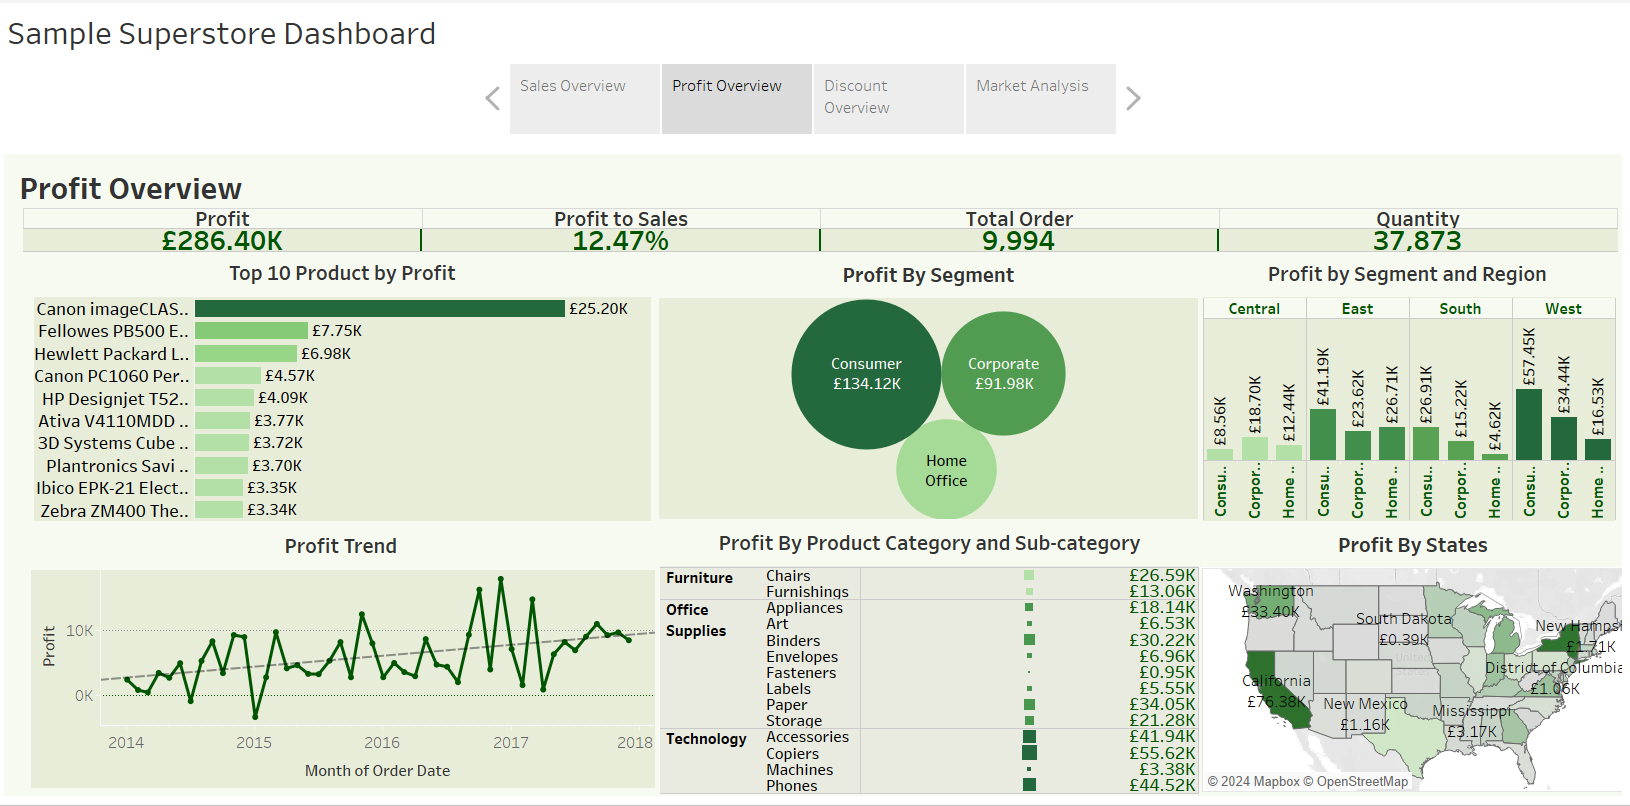

What the dashboard file says about the page in this screenshot:
{"tool":"tableau","page":{"name":"Profit Overview","canvas":[1000,1000],"units":"permille","ordinal":2},"visuals":[{"type":"title","box":[4.2,8.8,991.7,54.2]},{"type":"worksheet","title":"Profit KPI","mark":"Automatic","box":[11.5,83.7,986.1,69.9]},{"type":"worksheet","title":"Top 10 Product by Profit","mark":"Automatic","rows":["Product Name"],"cols":["Profit"],"box":[18.8,156.1,381.1,415.7]},{"type":"worksheet","title":"Profit by Segment and Region ","mark":"Automatic","rows":["Profit"],"cols":["Region","Segment"],"box":[741.1,157.3,255.3,414.5]},{"type":"worksheet","title":"Profit By Segment","mark":"Circle","box":[404.7,158.6,333.3,410.7]},{"type":"worksheet","title":"Porfit by Product Category ","mark":"Automatic","rows":["Category","Sub-Category"],"box":[405.3,576.8,333.3,420.7]},{"type":"worksheet","title":"Profit By States ","mark":"Automatic","box":[740.5,579.3,260.7,414.5]},{"type":"worksheet","title":"Profit Trend ","mark":"Automatic","rows":["Profit"],"cols":["Order Date"],"box":[16.9,581.8,385.4,407]}]}

Visuals, with their boxes on the dashboard's canvas, which has no fixed pixel size, in thousandths of its width and height (x1, y1, x2, y2). These are canvas units, not pixel positions in the 1630x806 screenshot, which may show the page scaled, cropped or inside an application window:
title: [left=4, top=9, right=996, bottom=63]
"Profit KPI" worksheet: [left=12, top=84, right=998, bottom=154]
"Top 10 Product by Profit" worksheet: [left=19, top=156, right=400, bottom=572]
"Profit by Segment and Region " worksheet: [left=741, top=157, right=996, bottom=572]
"Profit By Segment" worksheet (Circle marks): [left=405, top=159, right=738, bottom=569]
"Porfit by Product Category " worksheet: [left=405, top=577, right=739, bottom=998]
"Profit By States " worksheet: [left=740, top=579, right=1001, bottom=994]
"Profit Trend " worksheet: [left=17, top=582, right=402, bottom=989]
